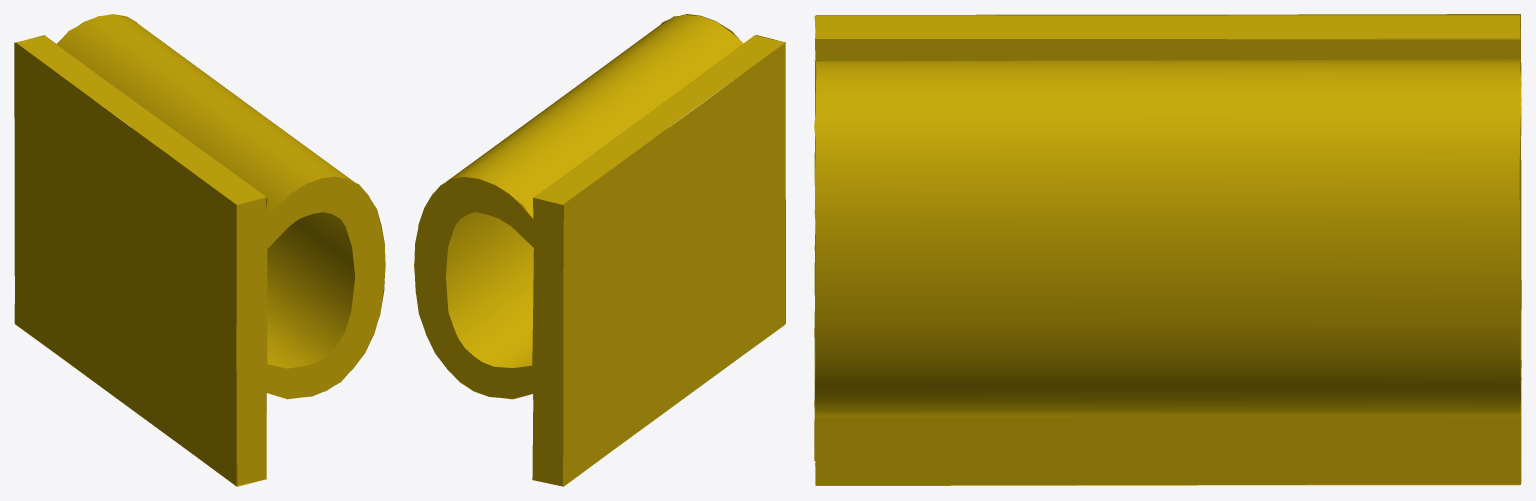
Rendered from original_12.obj.
3 views of the same model, side by side, from view 1: azimuth 30°, elevation 25°; view 2: azimuth 150°, elevation 25°; view 3: azimuth 270°, elevation 25° (orthographic). The views are drawn at different scales.
Visible parts, largest first — view 1: #ID75; view 2: #ID75; view 3: #ID75.
Part boxes in pixels (bbox=[...]): #ID75: bbox=[14, 14, 385, 486]; #ID75: bbox=[414, 14, 785, 486]; #ID75: bbox=[814, 14, 1521, 485].
Size of the model in its own units: 0.0301 by 0.0554 by 0.0775.
